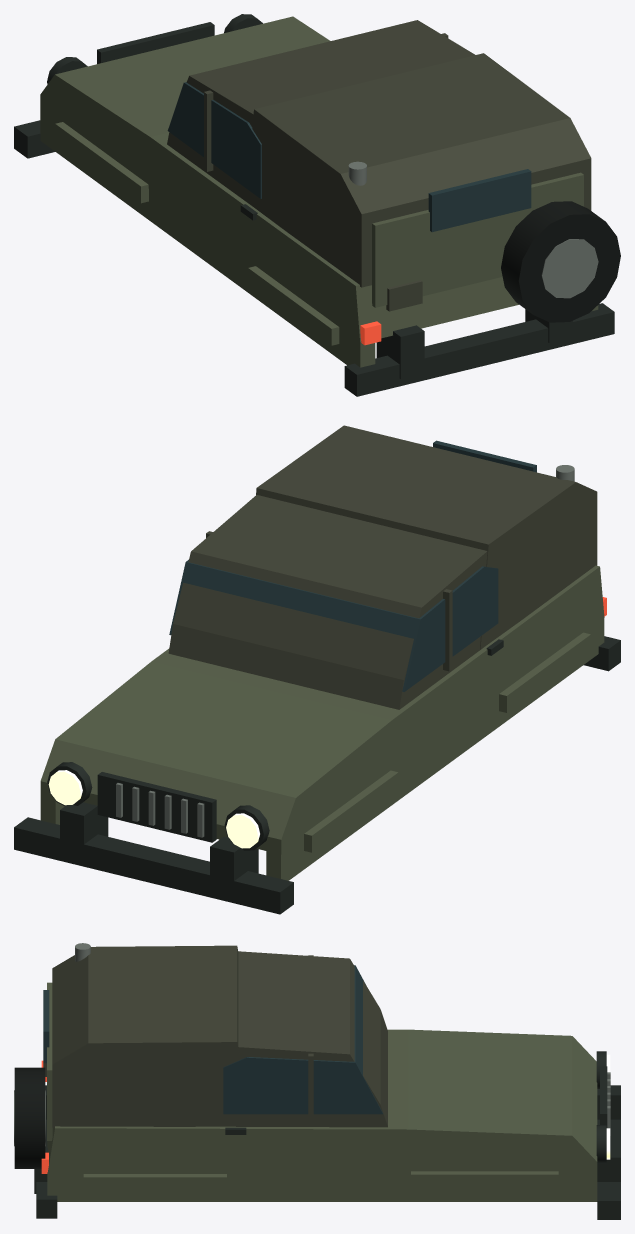
File: B-CMD-lod0.glb
3 views of the same model, one above another, from view 1: azimuth 30°, elevation 25°; view 2: azimuth 150°, elevation 25°; view 3: azimuth 270°, elevation 25° (orthographic). The views are drawn at different scales.
Parts seen in each view (by area): view 1: B-CMD_surface_02, B-CMD_surface_01, B-CMD_surface_04, B-CMD_surface_03, B-CMD_surface_00, B-CMD_surface_07; view 2: B-CMD_surface_02, B-CMD_surface_01, B-CMD_surface_04, B-CMD_surface_03, B-CMD_surface_05, B-CMD_surface_07; view 3: B-CMD_surface_01, B-CMD_surface_02, B-CMD_surface_03, B-CMD_surface_04, B-CMD_surface_00.
Part boxes in pixels (<box>): B-CMD_surface_02: <box>167,20,591,311</box>; B-CMD_surface_01: <box>40,16,598,367</box>; B-CMD_surface_04: <box>14,14,614,396</box>; B-CMD_surface_03: <box>167,82,531,232</box>; B-CMD_surface_00: <box>501,201,620,322</box>; B-CMD_surface_07: <box>541,239,598,298</box>; B-CMD_surface_02: <box>168,425,597,709</box>; B-CMD_surface_01: <box>40,565,604,880</box>; B-CMD_surface_04: <box>14,636,620,914</box>; B-CMD_surface_03: <box>169,440,536,691</box>; B-CMD_surface_05: <box>48,770,259,848</box>; B-CMD_surface_07: <box>116,783,204,837</box>; B-CMD_surface_01: <box>47,982,597,1201</box>; B-CMD_surface_02: <box>43,945,387,1127</box>; B-CMD_surface_03: <box>43,965,383,1114</box>; B-CMD_surface_04: <box>34,1051,620,1219</box>; B-CMD_surface_00: <box>14,1067,45,1168</box>.
Bounding box in the file's own units: 1.88 × 1.4 × 4.36.
